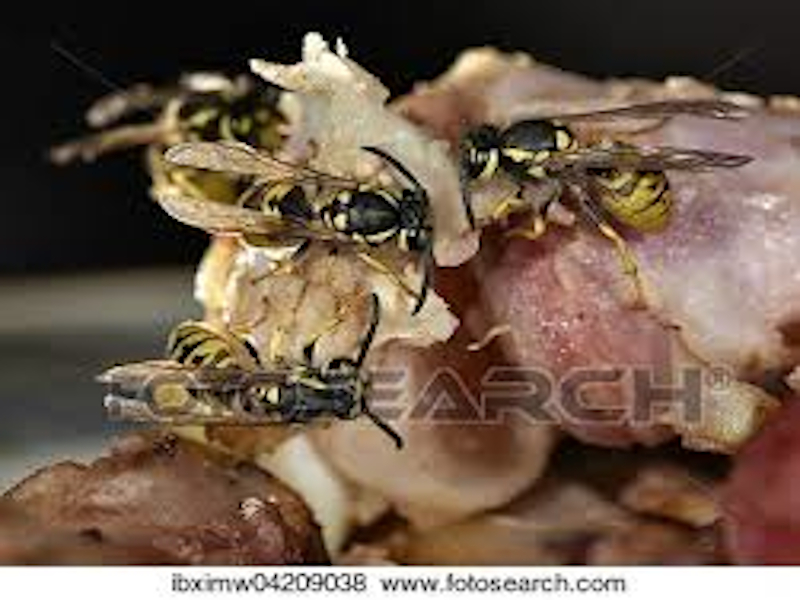chax: (448, 91, 759, 299), (105, 278, 430, 472), (149, 117, 445, 300)
